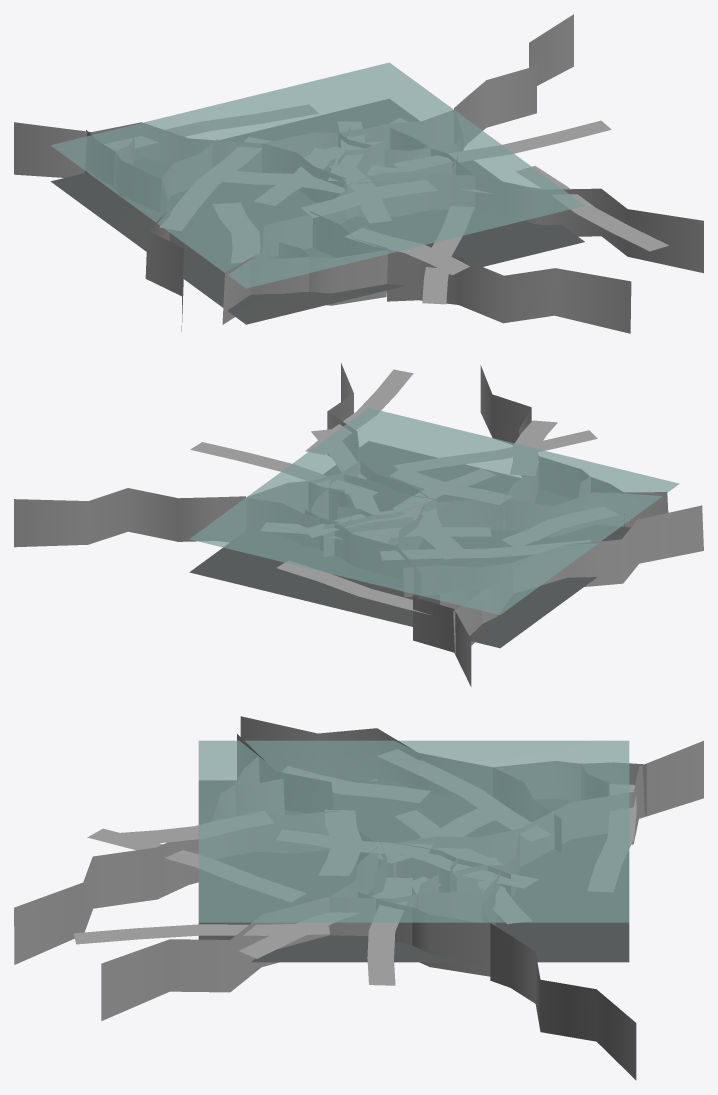
Rendered from icelake555.fbx.
3 views of the same model, one above another, from view 1: azimuth 30°, elevation 25°; view 2: azimuth 150°, elevation 25°; view 3: azimuth 270°, elevation 25° (orthographic). The views are drawn at different scales.
Visible parts, largest first — view 1: polySurface17; view 2: polySurface17; view 3: polySurface17.
Part boxes in pixels (x1,y1,x2,y2): polySurface17: (14,14,703,333); polySurface17: (14,363,703,686); polySurface17: (14,716,703,1080).
Size of the model in its own units: 3.38 by 0.3519 by 3.21.
